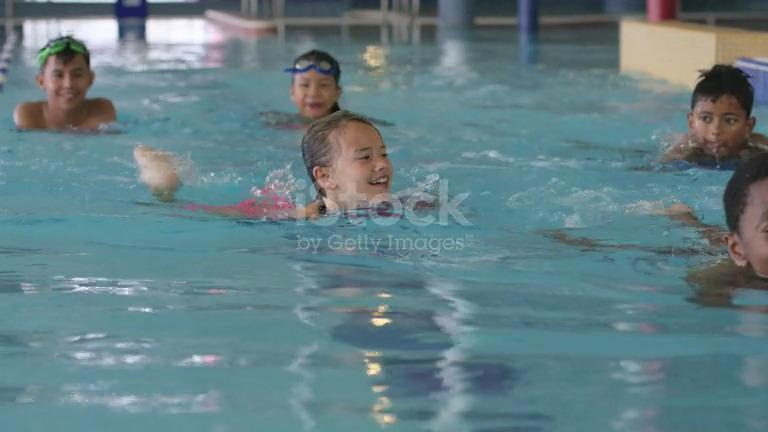Swimming: (116, 89, 461, 202), (629, 35, 768, 170), (0, 25, 151, 146)
